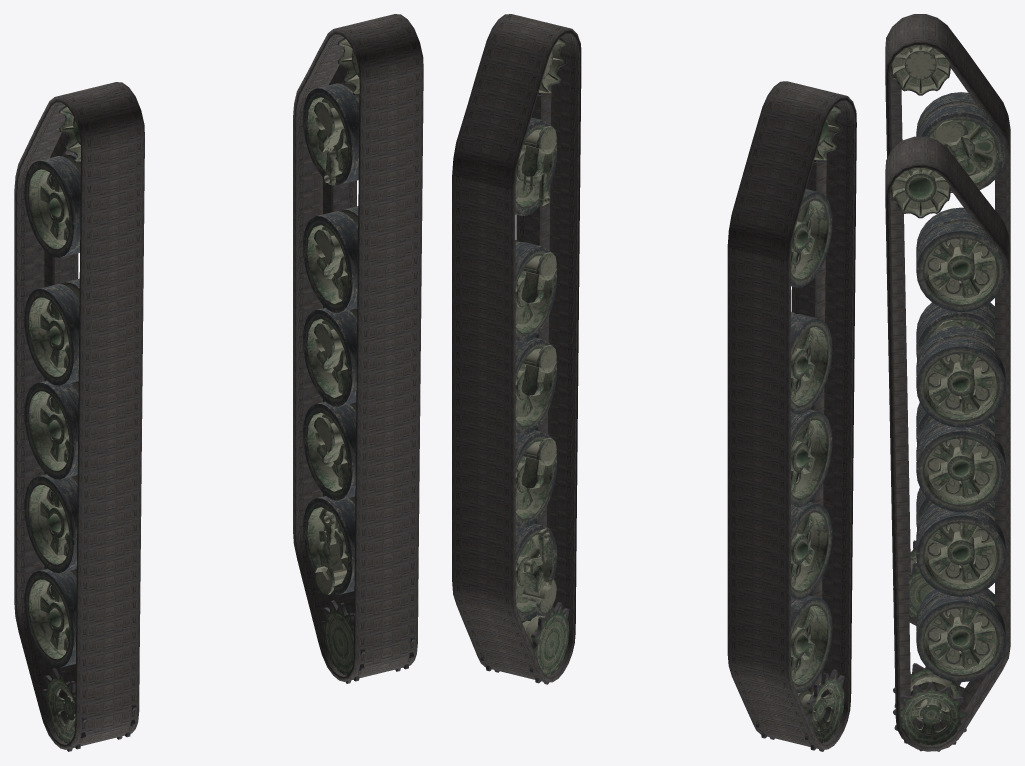
Rendered from Chassis.glb.
3 renders of one model, left to right at view 1: azimuth 30°, elevation 25°; view 2: azimuth 150°, elevation 25°; view 3: azimuth 270°, elevation 25°, orthographic. The views are drawn at different scales.
Visible parts, largest first — view 1: set_0_group_0, set_1_group_0, set_3_group_0, set_2_group_0; view 2: set_0_group_0, set_1_group_0, set_3_group_0, set_2_group_0; view 3: set_3_group_0, set_1_group_0, set_2_group_0, set_0_group_0.
Part boxes in pixels (<box>): set_0_group_0: <box>14,82,144,749</box>; set_1_group_0: <box>293,14,423,681</box>; set_3_group_0: <box>303,38,415,683</box>; set_2_group_0: <box>24,105,136,751</box>; set_0_group_0: <box>727,81,856,749</box>; set_1_group_0: <box>452,14,581,682</box>; set_3_group_0: <box>480,38,569,684</box>; set_2_group_0: <box>755,105,844,751</box>; set_3_group_0: <box>890,168,1005,751</box>; set_1_group_0: <box>885,136,1010,751</box>; set_2_group_0: <box>890,45,1005,618</box>; set_0_group_0: <box>885,14,1010,625</box>.
Bounding box in the file's own units: 3.2 × 5.88 × 1.13.
4 materials, 4 textured.
